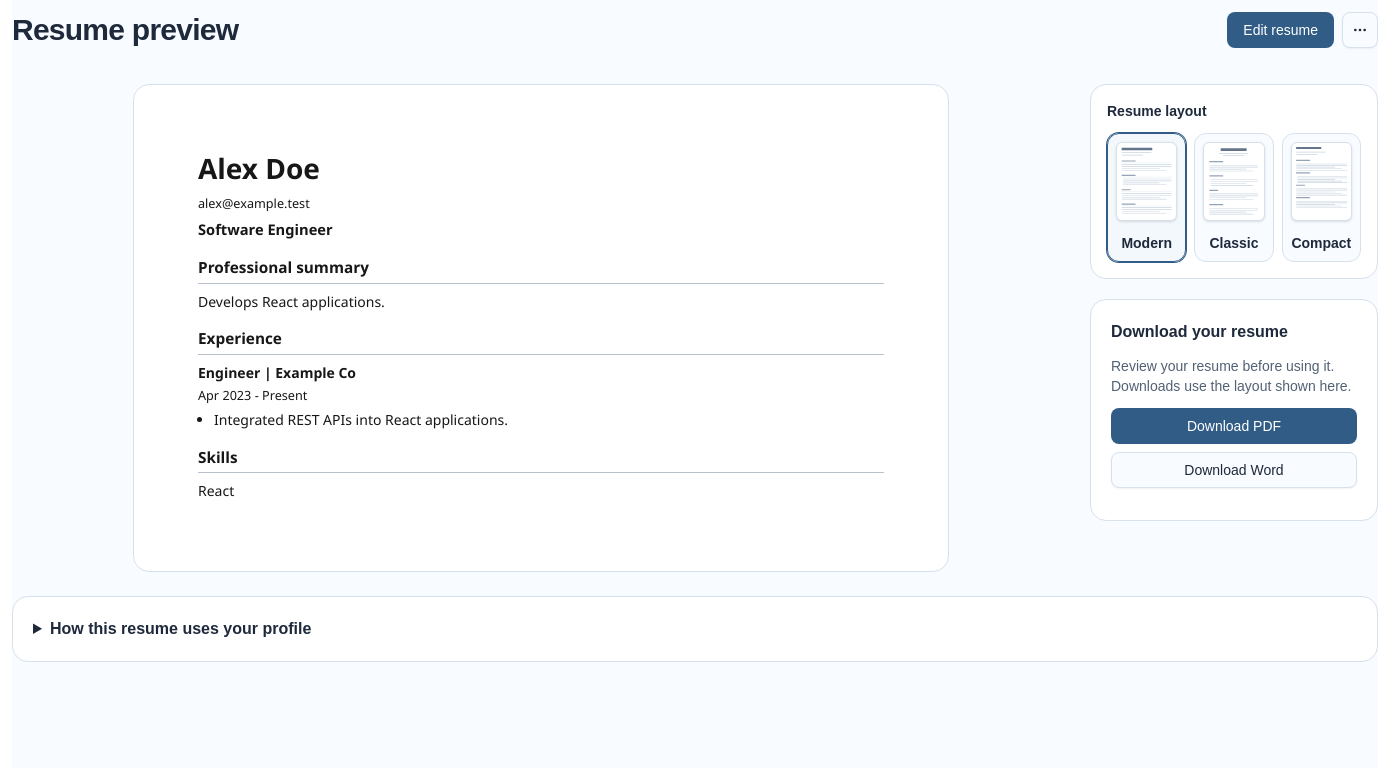
keeps local edits if the conflicting resume was deleted or reloading fails
The width and height of the screenshot is (1390, 768).
Step 1. Click the button "Edit resume" → [1281, 30], box [1227, 12, 1334, 48]
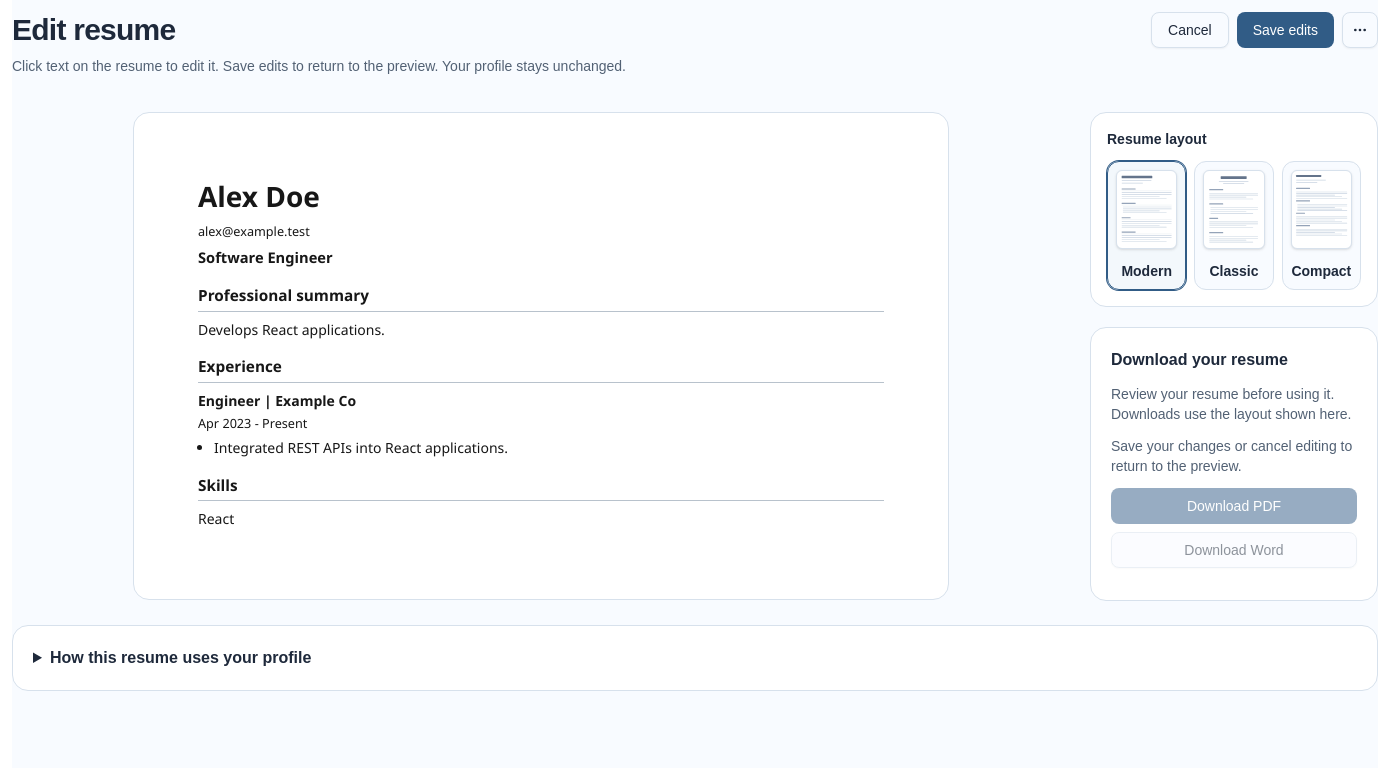
Step 2. Clear the field named "Professional summary" → [291, 329], box [198, 320, 385, 338]
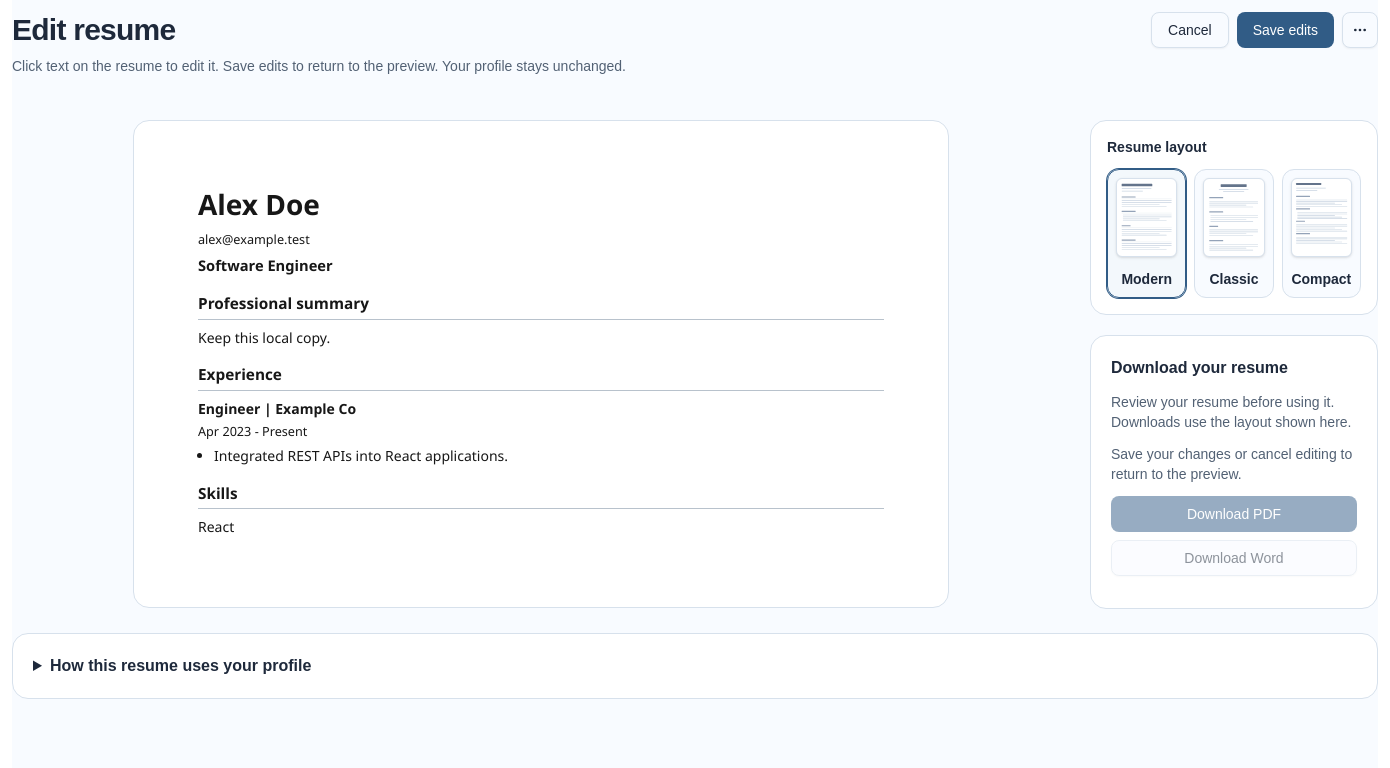
Step 3. Click the button "Save edits" → [1285, 30], box [1237, 12, 1334, 48]
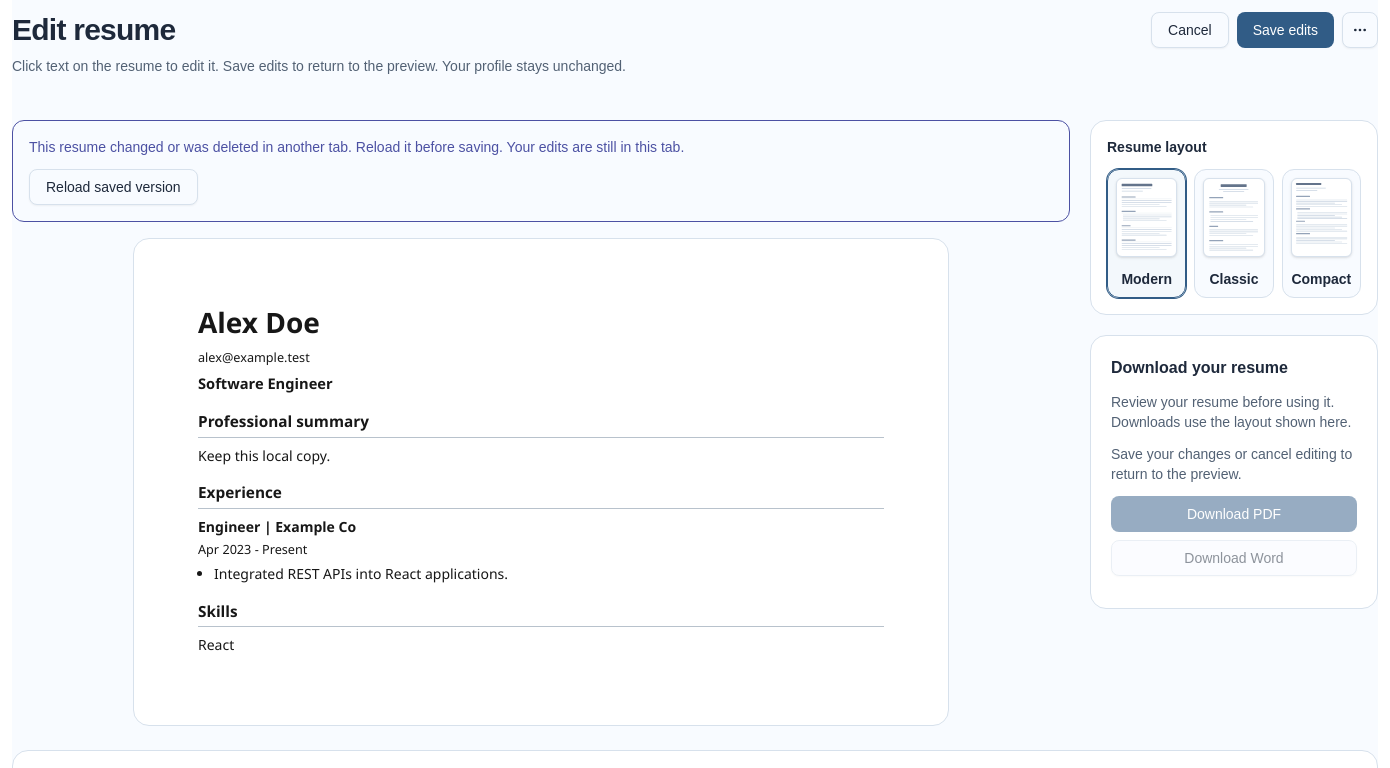
Step 4. Click the button "Reload saved version" → [113, 187], box [29, 169, 198, 205]
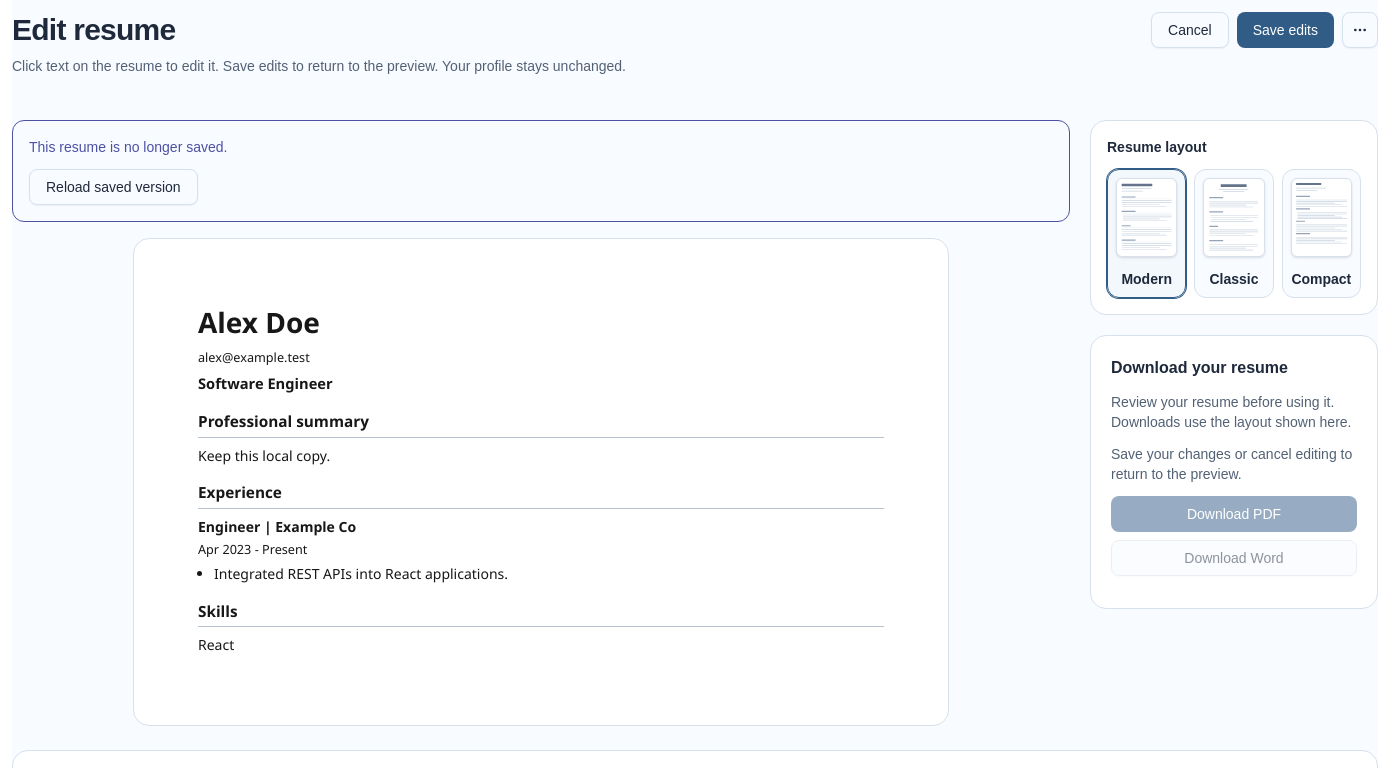
Expected: the button "Reload saved version" is enabled, [29, 169, 198, 205]
Expected: the message named "Resume error" shows "no longer saved", [29, 139, 227, 155]
